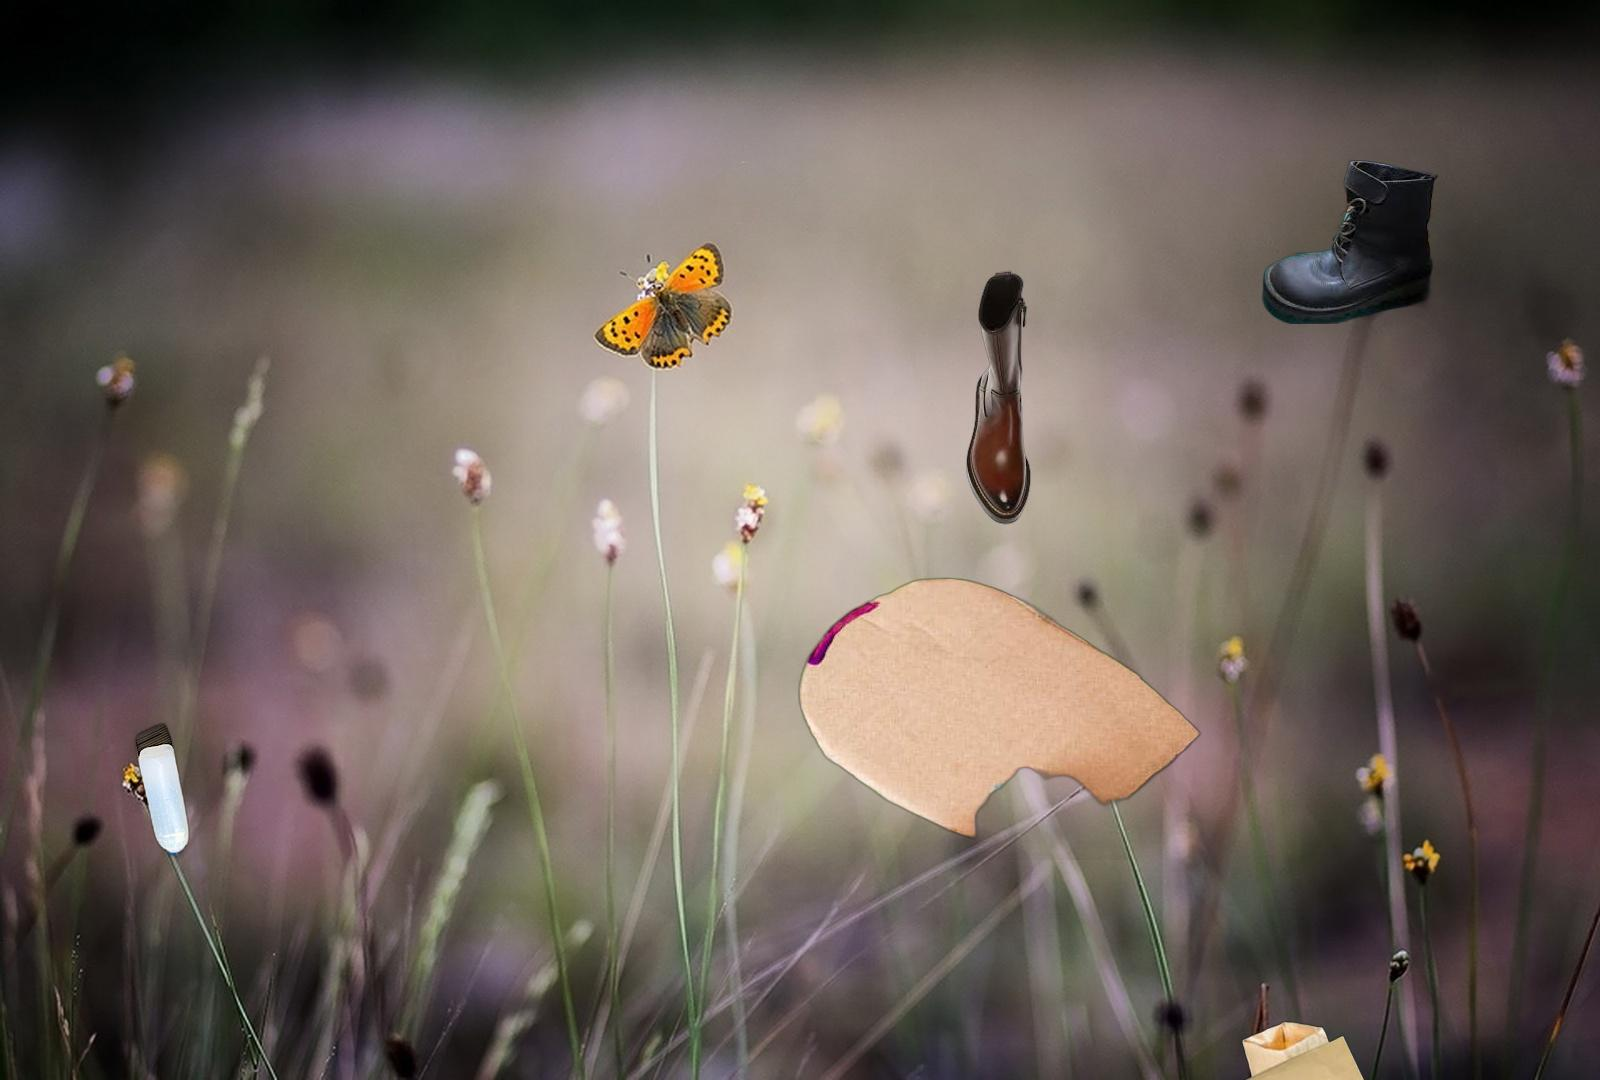paper-bag: (1186, 1019, 1372, 1080)
plastic-bottles: (131, 717, 194, 862)
shoes: (1260, 157, 1471, 324), (964, 269, 1033, 527)
trashbox-cardboard: (793, 575, 1206, 859)
